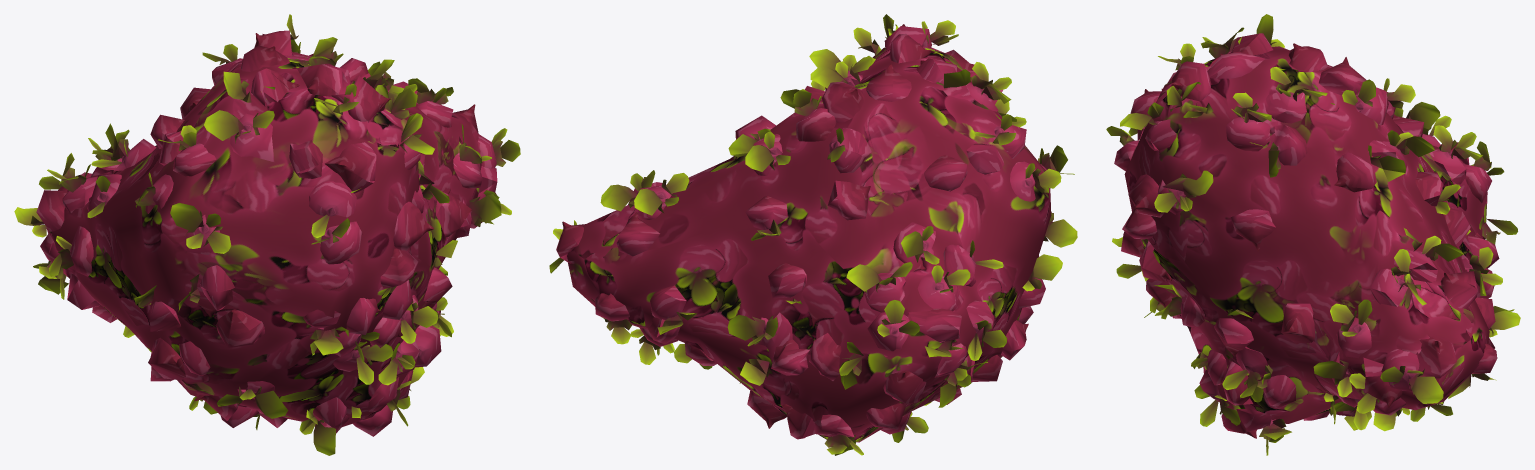
Rendered from env_building_redbeetpile_lod1.fbx.
The picture shows the model from 3 angles, left to right: view 1: azimuth 30°, elevation 25°; view 2: azimuth 150°, elevation 25°; view 3: azimuth 270°, elevation 25°; orthographic projection. The views are drawn at different scales.
Parts seen in each view (by area): view 1: env_building_redbeetpile_lod1; view 2: env_building_redbeetpile_lod1; view 3: env_building_redbeetpile_lod1.
Part boxes in pixels (x1,y1,x2,y2): env_building_redbeetpile_lod1: (14, 14, 520, 455); env_building_redbeetpile_lod1: (549, 14, 1077, 455); env_building_redbeetpile_lod1: (1106, 14, 1520, 455).
Bounding box in the file's own units: 20.05 × 15.48 × 16.18.
